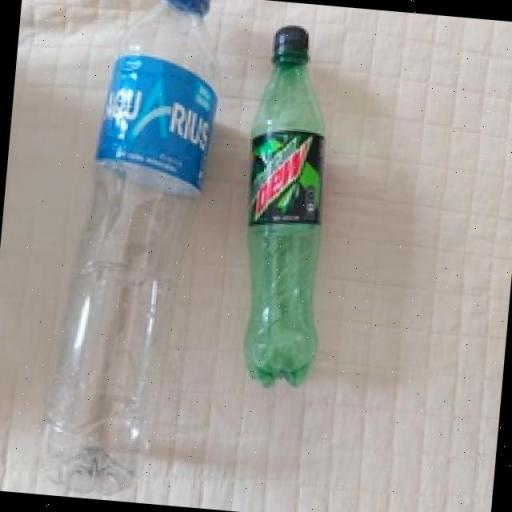plastic: (32, 0, 219, 494), (245, 25, 325, 392)
